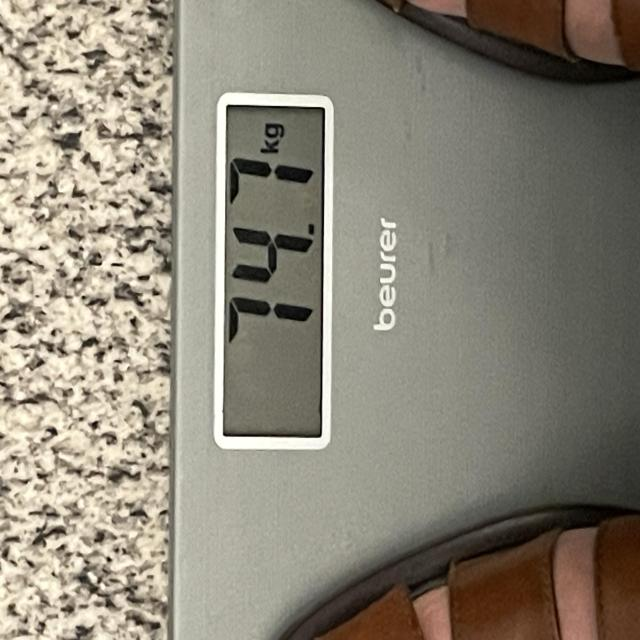ws: (205, 93, 335, 459)
